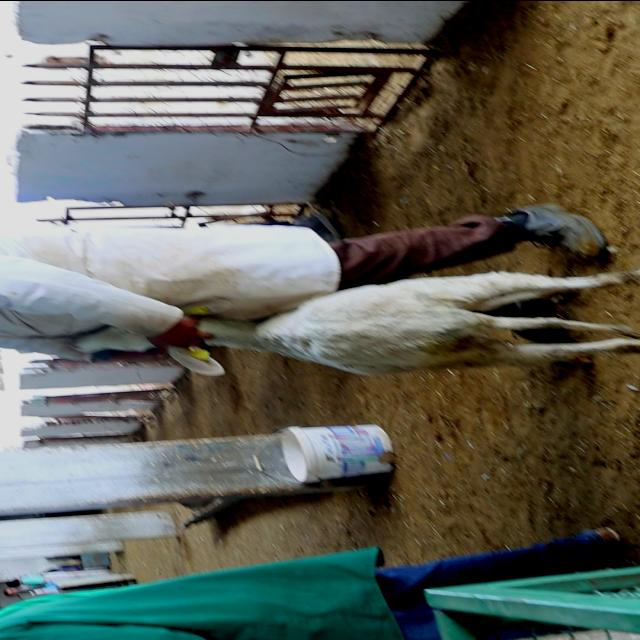Score_1: (200, 269, 639, 374)
